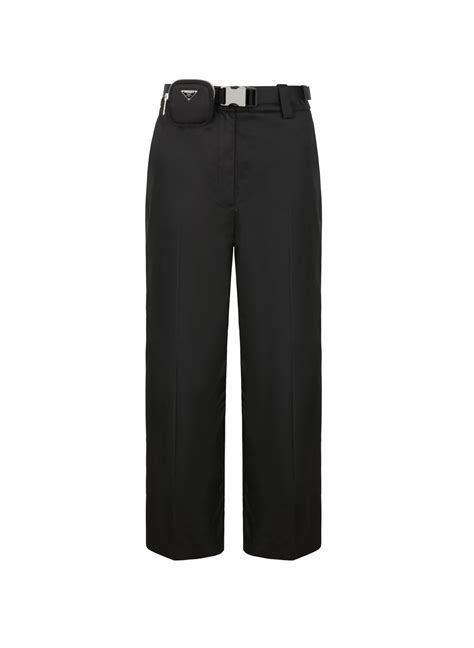nylon: (143, 81, 326, 560)
